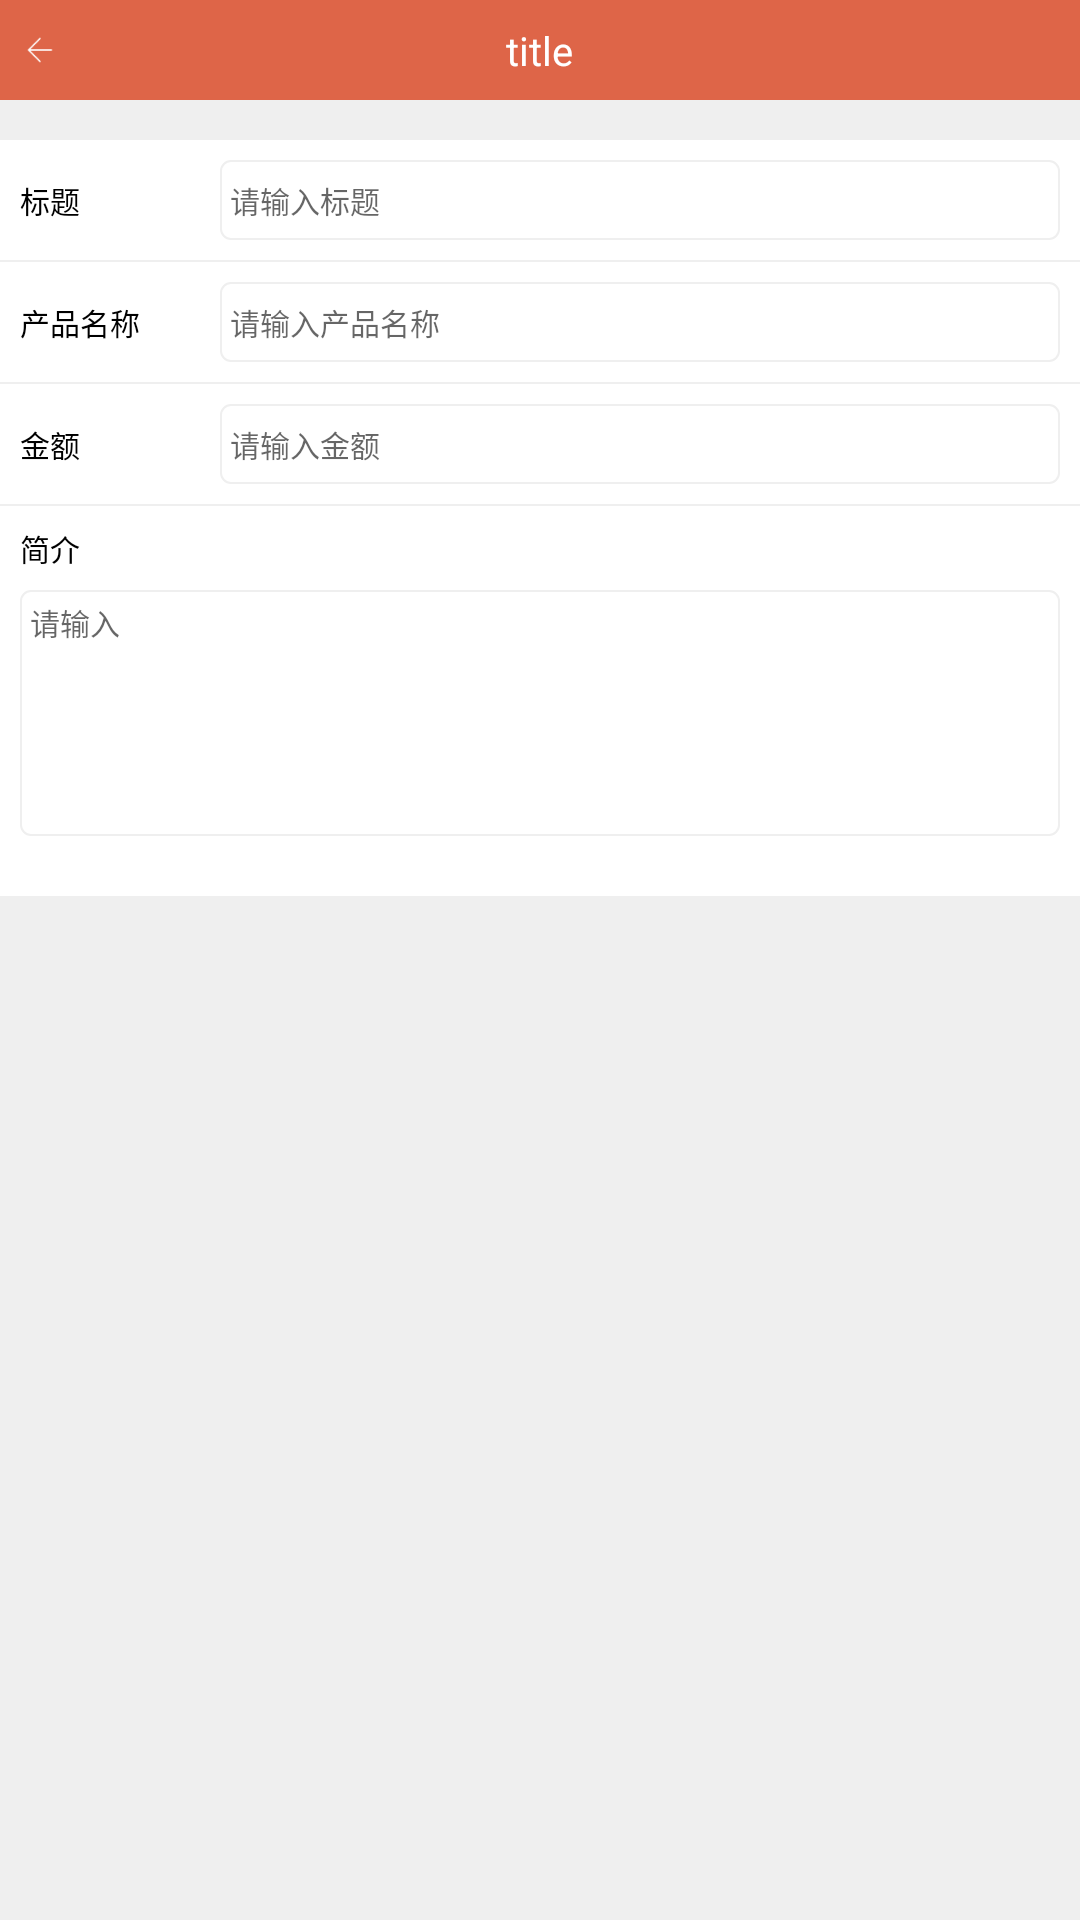

Where icons sit on this 1080px x 1920px app screen, as (x1, y1, x2, y2):
back: (27, 37, 52, 63)
